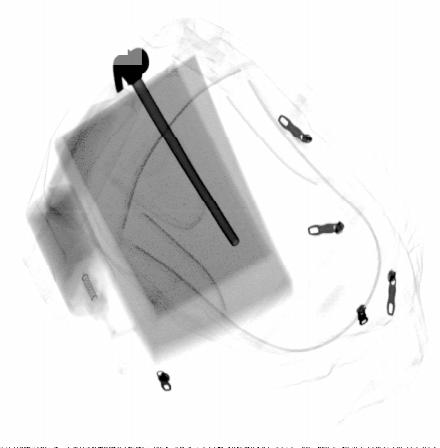Hammer: (112, 47, 241, 249)
